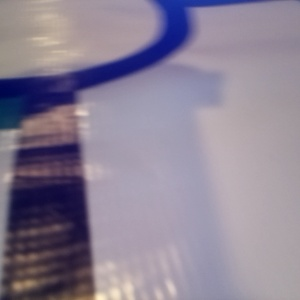bottom_right: (54, 113, 214, 190)
top_right: (198, 1, 252, 16)
